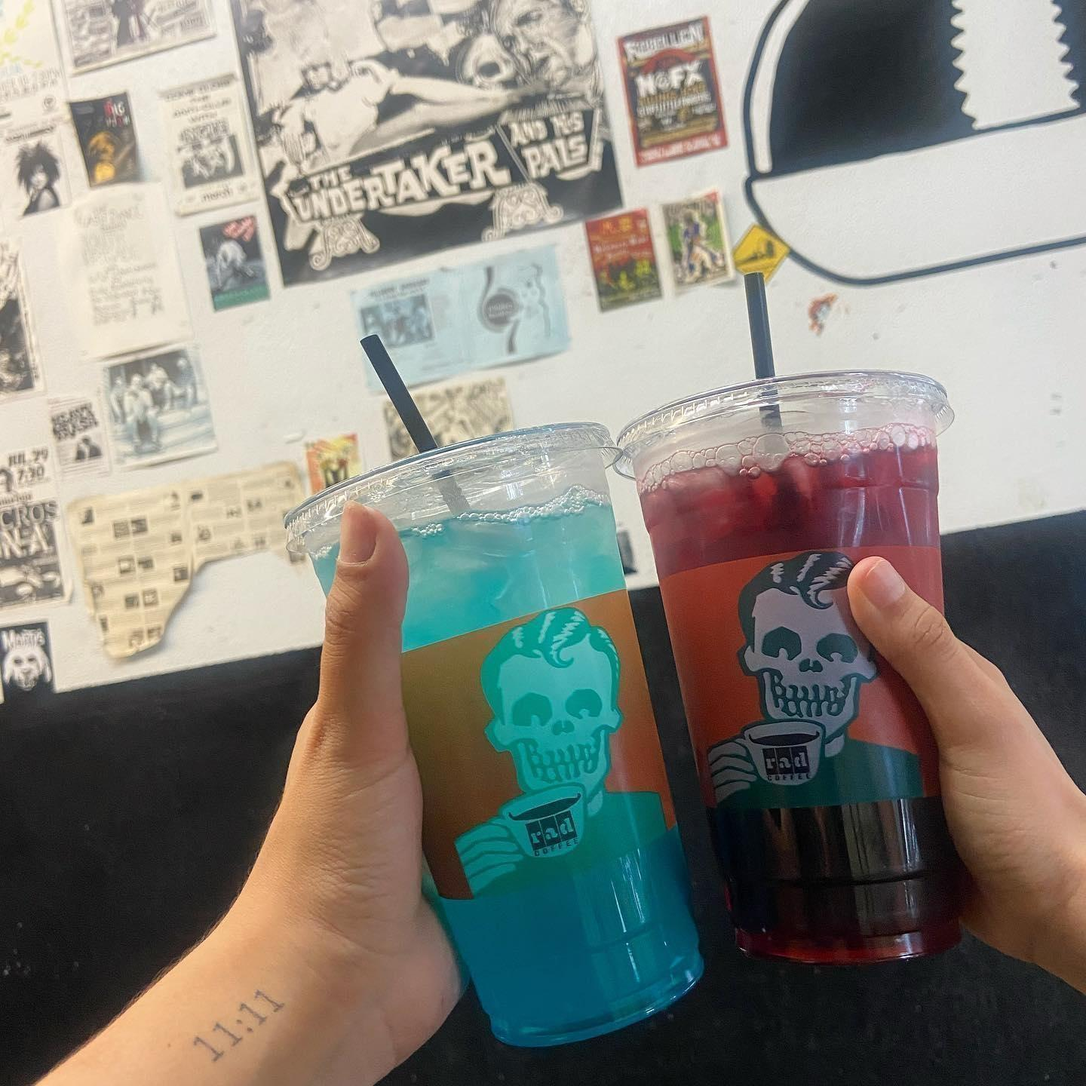cup-disposable: (257, 406, 719, 1065), (617, 357, 971, 996)
